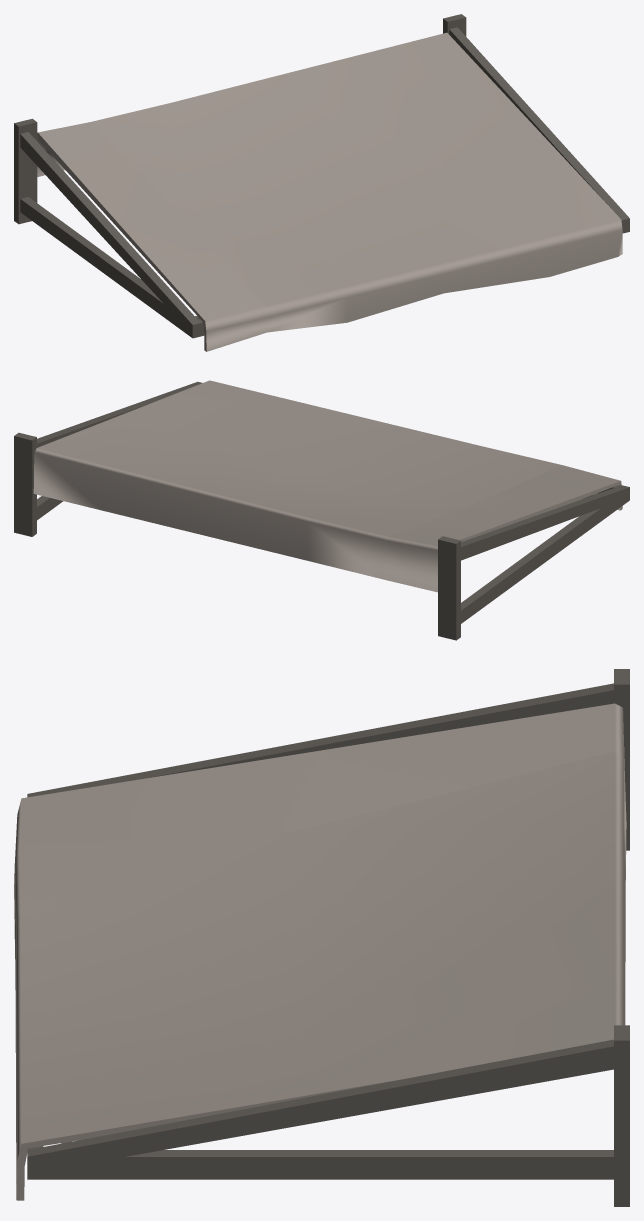
The model's file is SM_Bld_Shops_ClothCover_Large_01.glb.
3 renders of one model, top to bottom at view 1: azimuth 30°, elevation 25°; view 2: azimuth 150°, elevation 25°; view 3: azimuth 270°, elevation 25°, orthographic. The views are drawn at different scales.
Parts seen in each view (by area): view 1: SM_Bld_Shops_ClothCover_Large_01; view 2: SM_Bld_Shops_ClothCover_Large_01; view 3: SM_Bld_Shops_ClothCover_Large_01.
Part boxes in pixels (bbox=[...]): SM_Bld_Shops_ClothCover_Large_01: bbox=[14, 14, 629, 351]; SM_Bld_Shops_ClothCover_Large_01: bbox=[14, 380, 629, 640]; SM_Bld_Shops_ClothCover_Large_01: bbox=[14, 669, 629, 1206].
Bounding box in the file's own units: 4.13 × 0.9566 × 2.89.
Materials: 1 (1 with a texture image).
